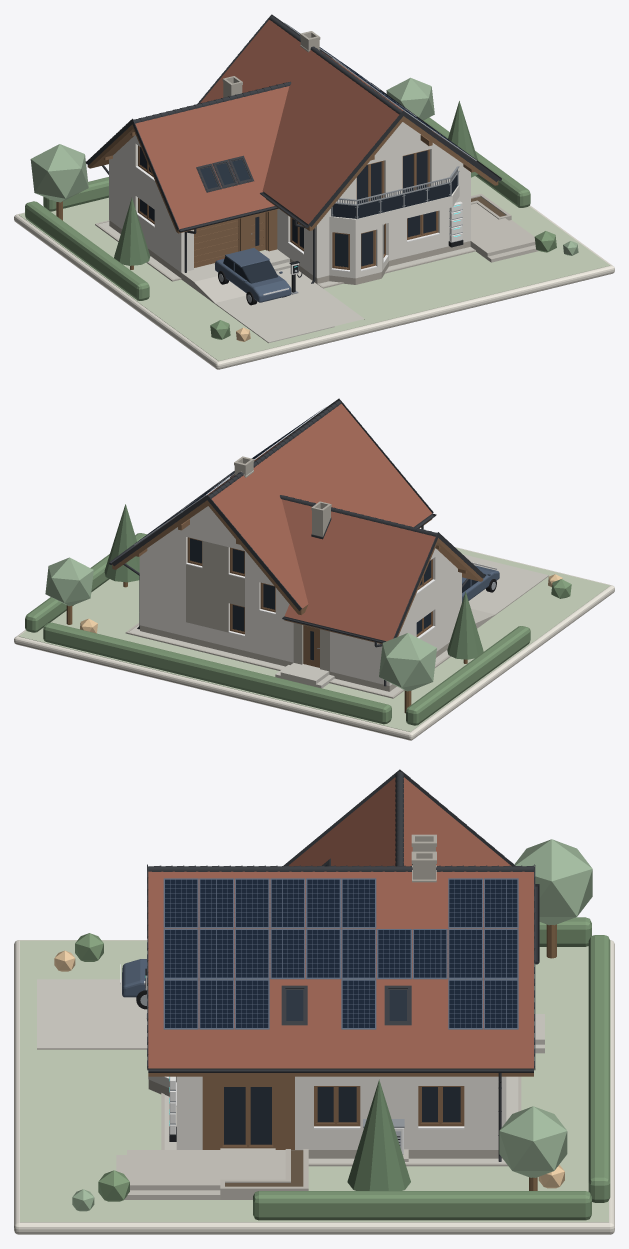
Rendered from house.glb.
3 views of the same model, one above another, from view 1: azimuth 30°, elevation 25°; view 2: azimuth 150°, elevation 25°; view 3: azimuth 270°, elevation 25° (orthographic). The views are drawn at different scales.
Visible parts, largest first — view 1: Lawn, roof, wall_exterior, roof.001, ground_around_house, Plinth, window.011, Hedge_West, Tree0_Crown, terrace, barrels.001, cover_sides.001 (+15 smaller); view 2: wall_exterior, roof, roof.001, Lawn, Hedge_Back, Plinth, ground_around_house, Hedge_West, Tree0_Crown, window.011, cover_sides.001, Tree1_Crown (+8 smaller); view 3: Lawn, roof, wall_exterior, Plinth, ground_around_house, Hedge_East, roof.001, window.011, terrace, Hedge_Back, Tree0_Crown, Conifer1 (+35 smaller).
Part boxes in pixels (x1=…): Lawn: x1=19, y1=176, x2=610, y2=361; roof: x1=200, y1=19, x2=498, y2=230; wall_exterior: x1=109, y1=122, x2=470, y2=284; roof.001: x1=87, y1=86, x2=289, y2=233; ground_around_house: x1=95, y1=220, x2=475, y2=343; Plinth: x1=14, y1=205, x2=614, y2=369; window.011: x1=135, y1=145, x2=439, y2=271; Hedge_West: x1=25, y1=201, x2=149, y2=300; Tree0_Crown: x1=30, y1=144, x2=88, y2=202; terrace: x1=470, y1=203, x2=538, y2=262; barrels.001: x1=331, y1=166, x2=459, y2=218; cover_sides.001: x1=86, y1=14, x2=498, y2=230; wall_exterior: x1=139, y1=506, x2=461, y2=691; roof: x1=112, y1=403, x2=432, y2=614; roof.001: x1=281, y1=499, x2=483, y2=644; Lawn: x1=18, y1=548, x2=610, y2=731; Hedge_Back: x1=43, y1=622, x2=391, y2=724; Plinth: x1=14, y1=547, x2=614, y2=740; ground_around_house: x1=125, y1=554, x2=548, y2=698; Hedge_West: x1=406, y1=626, x2=530, y2=725; Tree0_Crown: x1=379, y1=633, x2=436, y2=691; window.011: x1=186, y1=537, x2=435, y2=638; cover_sides.001: x1=112, y1=398, x2=484, y2=638; Tree1_Crown: x1=45, y1=557, x2=93, y2=606; Lawn: x1=20, y1=940, x2=608, y2=1222; roof: x1=148, y1=871, x2=533, y2=1076; wall_exterior: x1=148, y1=1076, x2=506, y2=1158; Plinth: x1=14, y1=940, x2=614, y2=1234; ground_around_house: x1=37, y1=979, x2=544, y2=1166; Hedge_East: x1=253, y1=1191, x2=591, y2=1220; roof.001: x1=289, y1=777, x2=511, y2=866; window.011: x1=162, y1=1076, x2=464, y2=1148; terrace: x1=116, y1=1148, x2=285, y2=1199; Hedge_Back: x1=588, y1=935, x2=610, y2=1202; Tree0_Crown: x1=514, y1=839, x2=592, y2=925; Conifer1: x1=347, y1=1079, x2=410, y2=1190.
Size of the model in its own units: 22 by 9.33 by 19.5.
